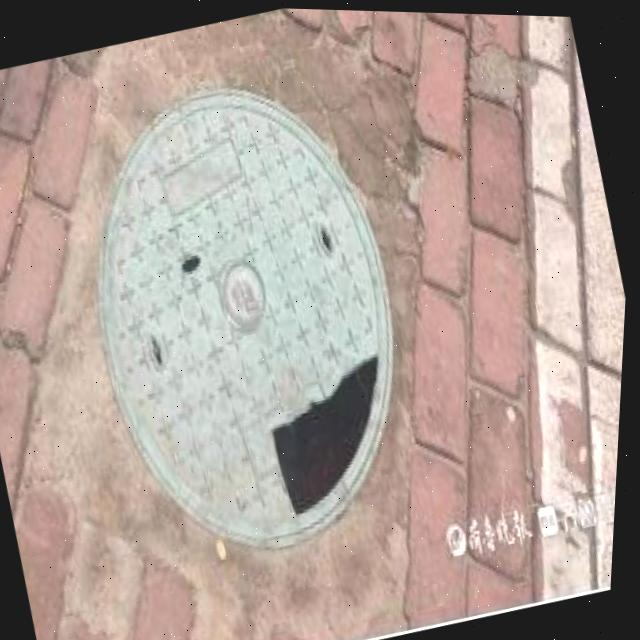manhole: (26, 39, 459, 592)
